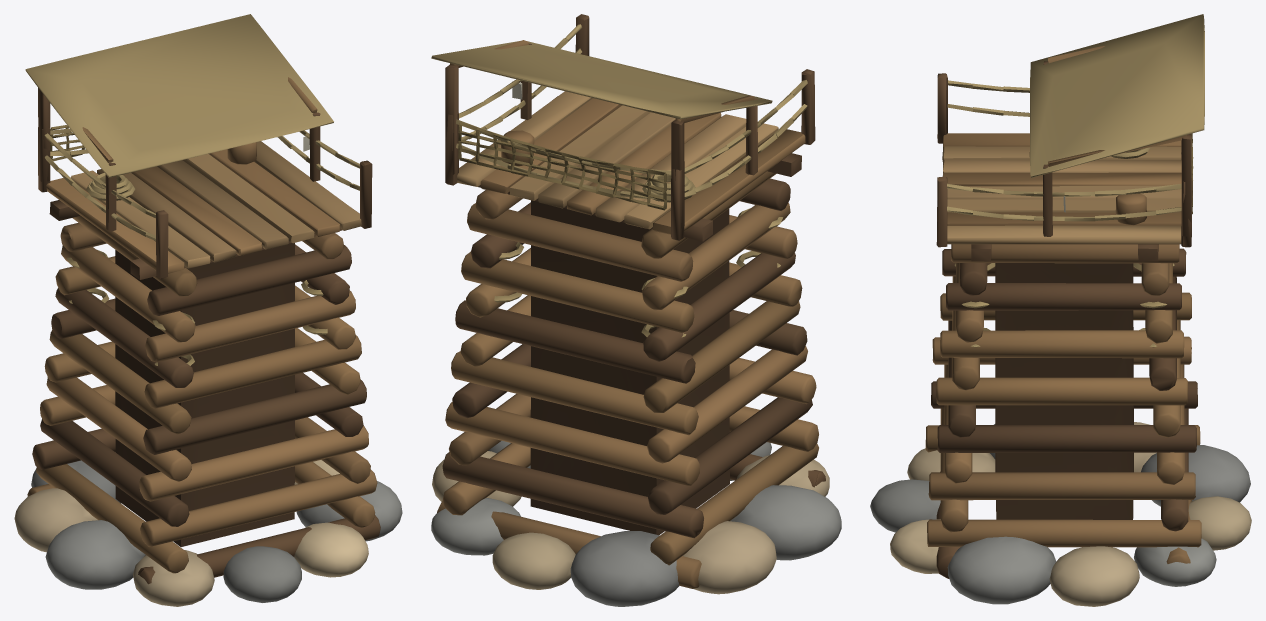
The model's file is lookout_deck_a_lod1.glb.
3 renders of one model, left to right at view 1: azimuth 30°, elevation 25°; view 2: azimuth 150°, elevation 25°; view 3: azimuth 270°, elevation 25°, orthographic. The views are drawn at different scales.
Visible parts, largest first — view 1: Surface.001; view 2: Surface.001; view 3: Surface.001.
Boxes of the visible parts, left/top/right/bottom form: Surface.001: left=14, top=14, right=402, bottom=606; Surface.001: left=431, top=14, right=841, bottom=606; Surface.001: left=870, top=14, right=1251, bottom=606.
Size of the model in its own units: 7.12 by 9.31 by 6.87.
